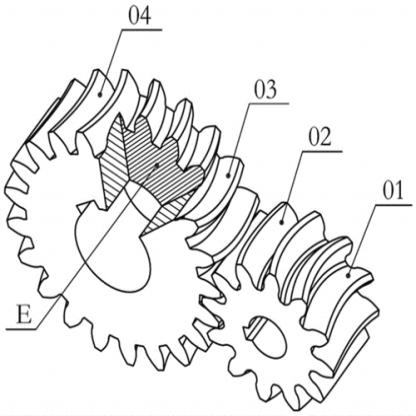FOD: (6, 60, 260, 371), (202, 195, 390, 412)
